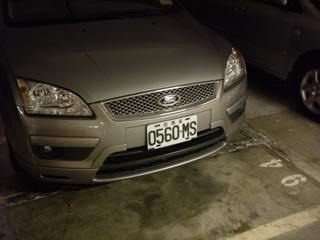plate: (144, 118, 200, 147)
